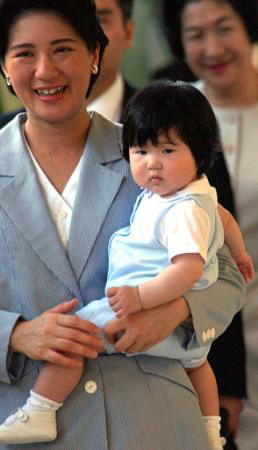Face: (1, 20, 99, 115), (184, 7, 254, 86), (123, 129, 197, 196)
